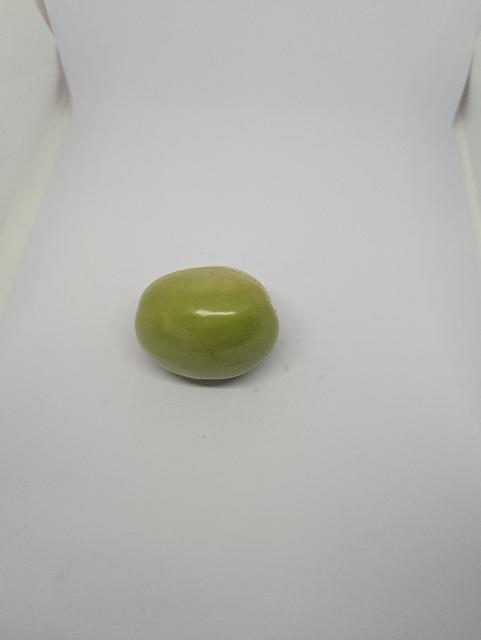green: (130, 263, 291, 388)
